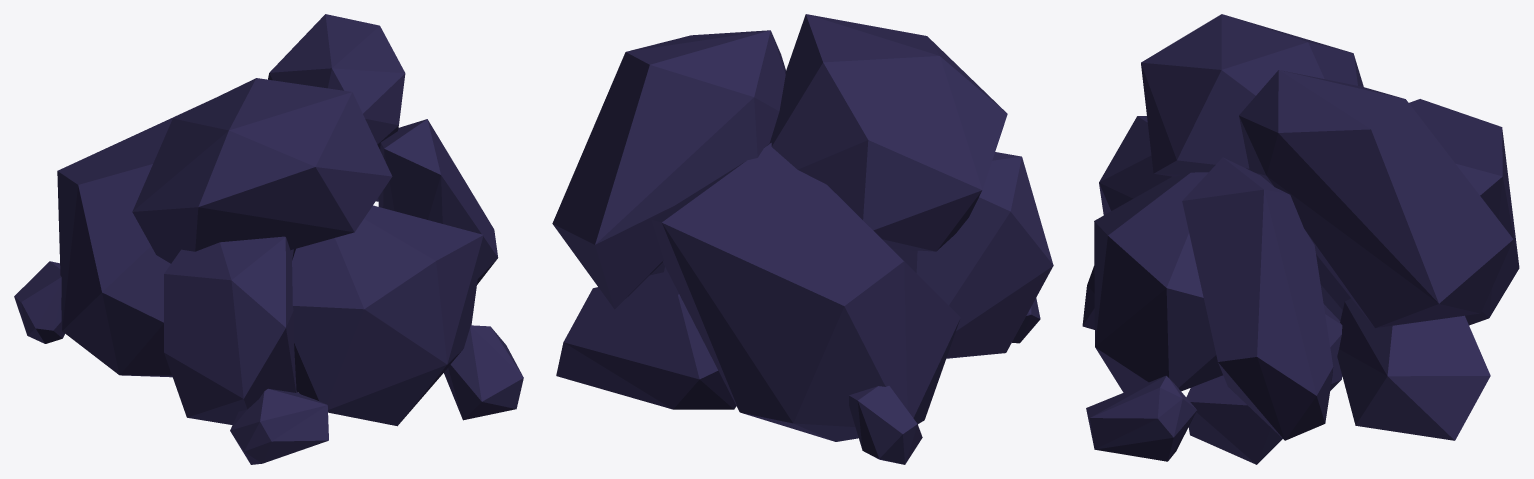
The model's file is c_collapse.glb.
3 renders of one model, left to right at view 1: azimuth 30°, elevation 25°; view 2: azimuth 150°, elevation 25°; view 3: azimuth 270°, elevation 25°, orthographic. The views are drawn at different scales.
Parts seen in each view (by area): view 1: C_Collapse.005, C_Collapse.010, C_Collapse.002, C_Collapse.004, C_Collapse.007, C_Collapse, C_Collapse.006, C_Collapse.011, C_Collapse.008; view 2: C_Collapse.002, C_Collapse.005, C_Collapse.007, C_Collapse.004, C_Collapse.003, C_Collapse.008; view 3: C_Collapse.007, C_Collapse, C_Collapse.010, C_Collapse.005, C_Collapse.003, C_Collapse.002, C_Collapse.011, C_Collapse.001, C_Collapse.004, C_Collapse.006.
Boxes of the visible parts, x1,y1,x2,y2 form: C_Collapse.005: (132,78,392,263); C_Collapse.010: (292,205,483,426); C_Collapse.002: (57,98,214,377); C_Collapse.004: (164,236,297,424); C_Collapse.007: (268,14,405,201); C_Collapse: (378,119,498,284); C_Collapse.006: (230,388,328,464); C_Collapse.011: (444,325,523,420); C_Collapse.008: (14,261,64,343); C_Collapse.002: (651,142,960,441); C_Collapse.005: (770,14,1007,251); C_Collapse.007: (552,30,785,309); C_Collapse.004: (892,152,1053,358); C_Collapse.003: (556,271,736,409); C_Collapse.008: (849,386,922,464); C_Collapse.007: (1239,70,1513,327); C_Collapse: (1182,157,1333,440); C_Collapse.010: (1094,172,1222,392); C_Collapse.005: (1141,14,1363,176); C_Collapse.003: (1337,298,1490,440); C_Collapse.002: (1316,99,1519,325); C_Collapse.011: (1086,375,1196,461); C_Collapse.001: (1186,304,1342,464); C_Collapse.004: (1099,116,1171,214); C_Collapse.006: (1082,266,1094,329).
Bounding box in the file's own units: 2.09 × 1.72 × 1.95.
1 material, 1 textured.
